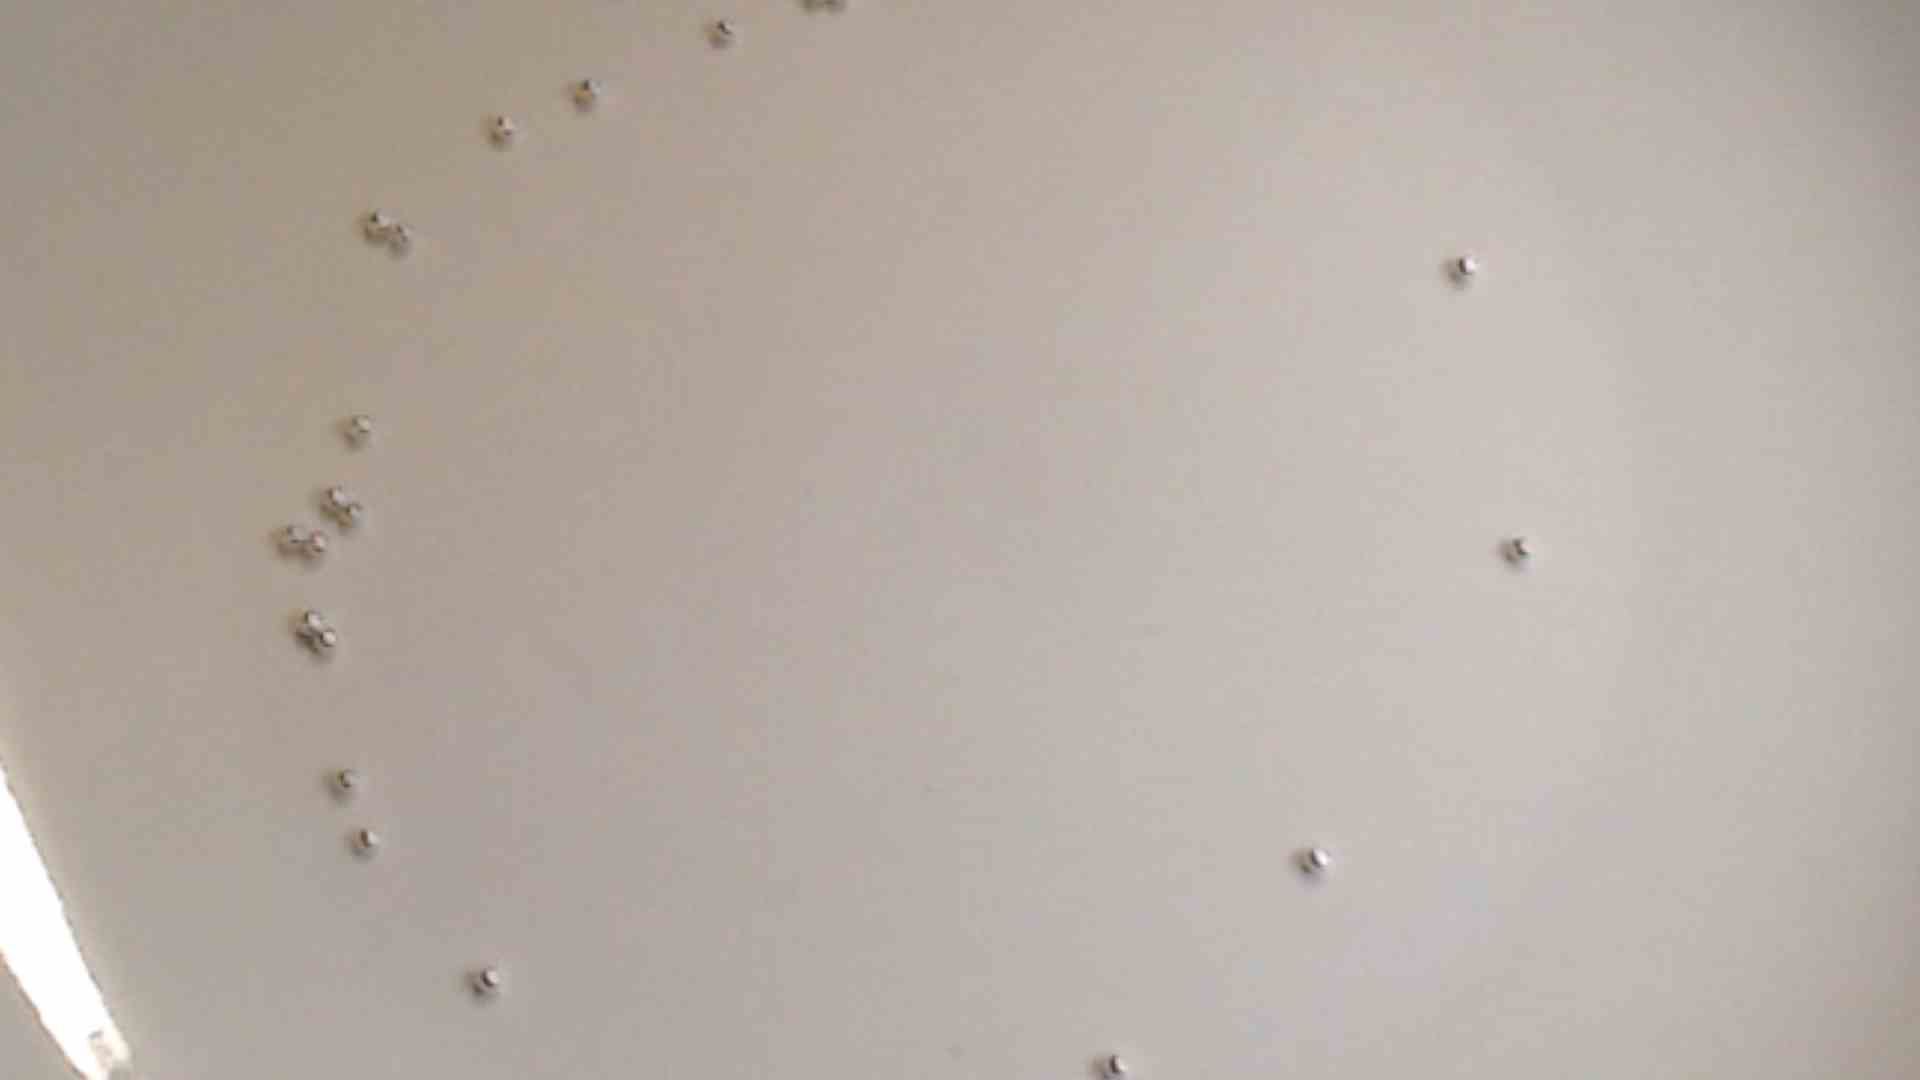chocolate: (1300, 840, 1336, 878), (384, 218, 419, 255), (351, 823, 385, 861), (336, 498, 373, 533), (291, 603, 328, 637), (360, 204, 396, 239), (342, 409, 376, 444), (472, 963, 506, 998), (1449, 249, 1484, 285), (572, 76, 607, 111), (709, 15, 742, 50), (277, 517, 310, 551), (309, 626, 342, 661), (315, 480, 348, 513), (299, 531, 332, 564), (1499, 530, 1530, 564), (487, 112, 520, 142), (1101, 1051, 1134, 1080), (334, 767, 361, 798)
